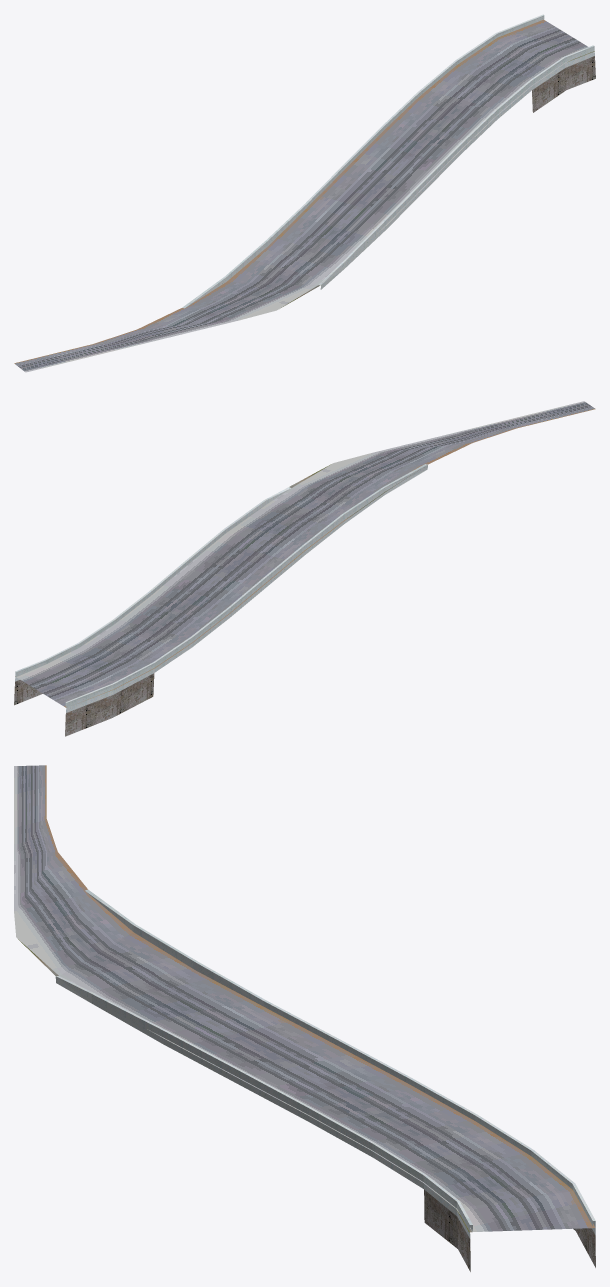
The model's file is lodsspagjun10.obj.
The picture shows the model from 3 angles, top to bottom: view 1: azimuth 30°, elevation 25°; view 2: azimuth 210°, elevation 25°; view 3: azimuth 270°, elevation 25°; orthographic projection. The views are drawn at different scales.
Visible parts, largest first — view 1: lodSspagjun10; view 2: lodSspagjun10; view 3: lodSspagjun10.
Boxes of the visible parts, box(x1,y1,x2,y2) form: lodSspagjun10: box(14, 14, 595, 372); lodSspagjun10: box(14, 401, 595, 736); lodSspagjun10: box(14, 765, 595, 1271).
Size of the model in its own units: 186 by 8.83 by 91.51.
Materials: 4 (4 with a texture image).
